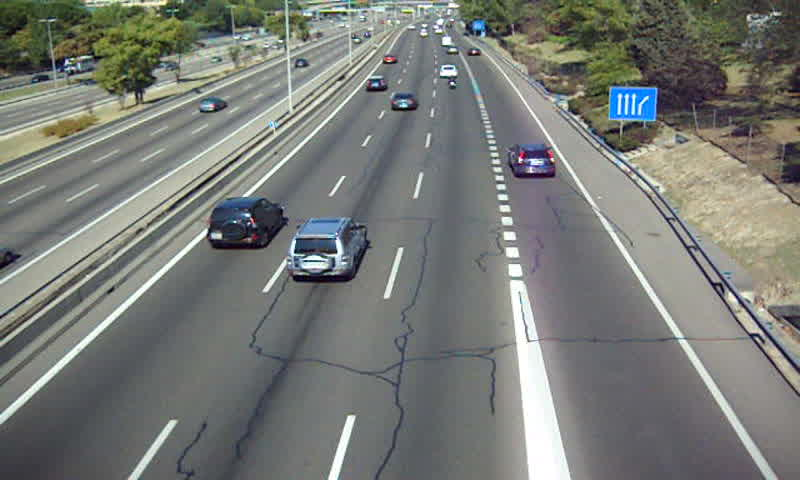car: (288, 219, 365, 279), (206, 198, 282, 251), (511, 145, 556, 176), (389, 91, 419, 112), (365, 74, 388, 92), (438, 63, 458, 77), (382, 53, 400, 65)
motorcycle: (447, 77, 458, 90)
